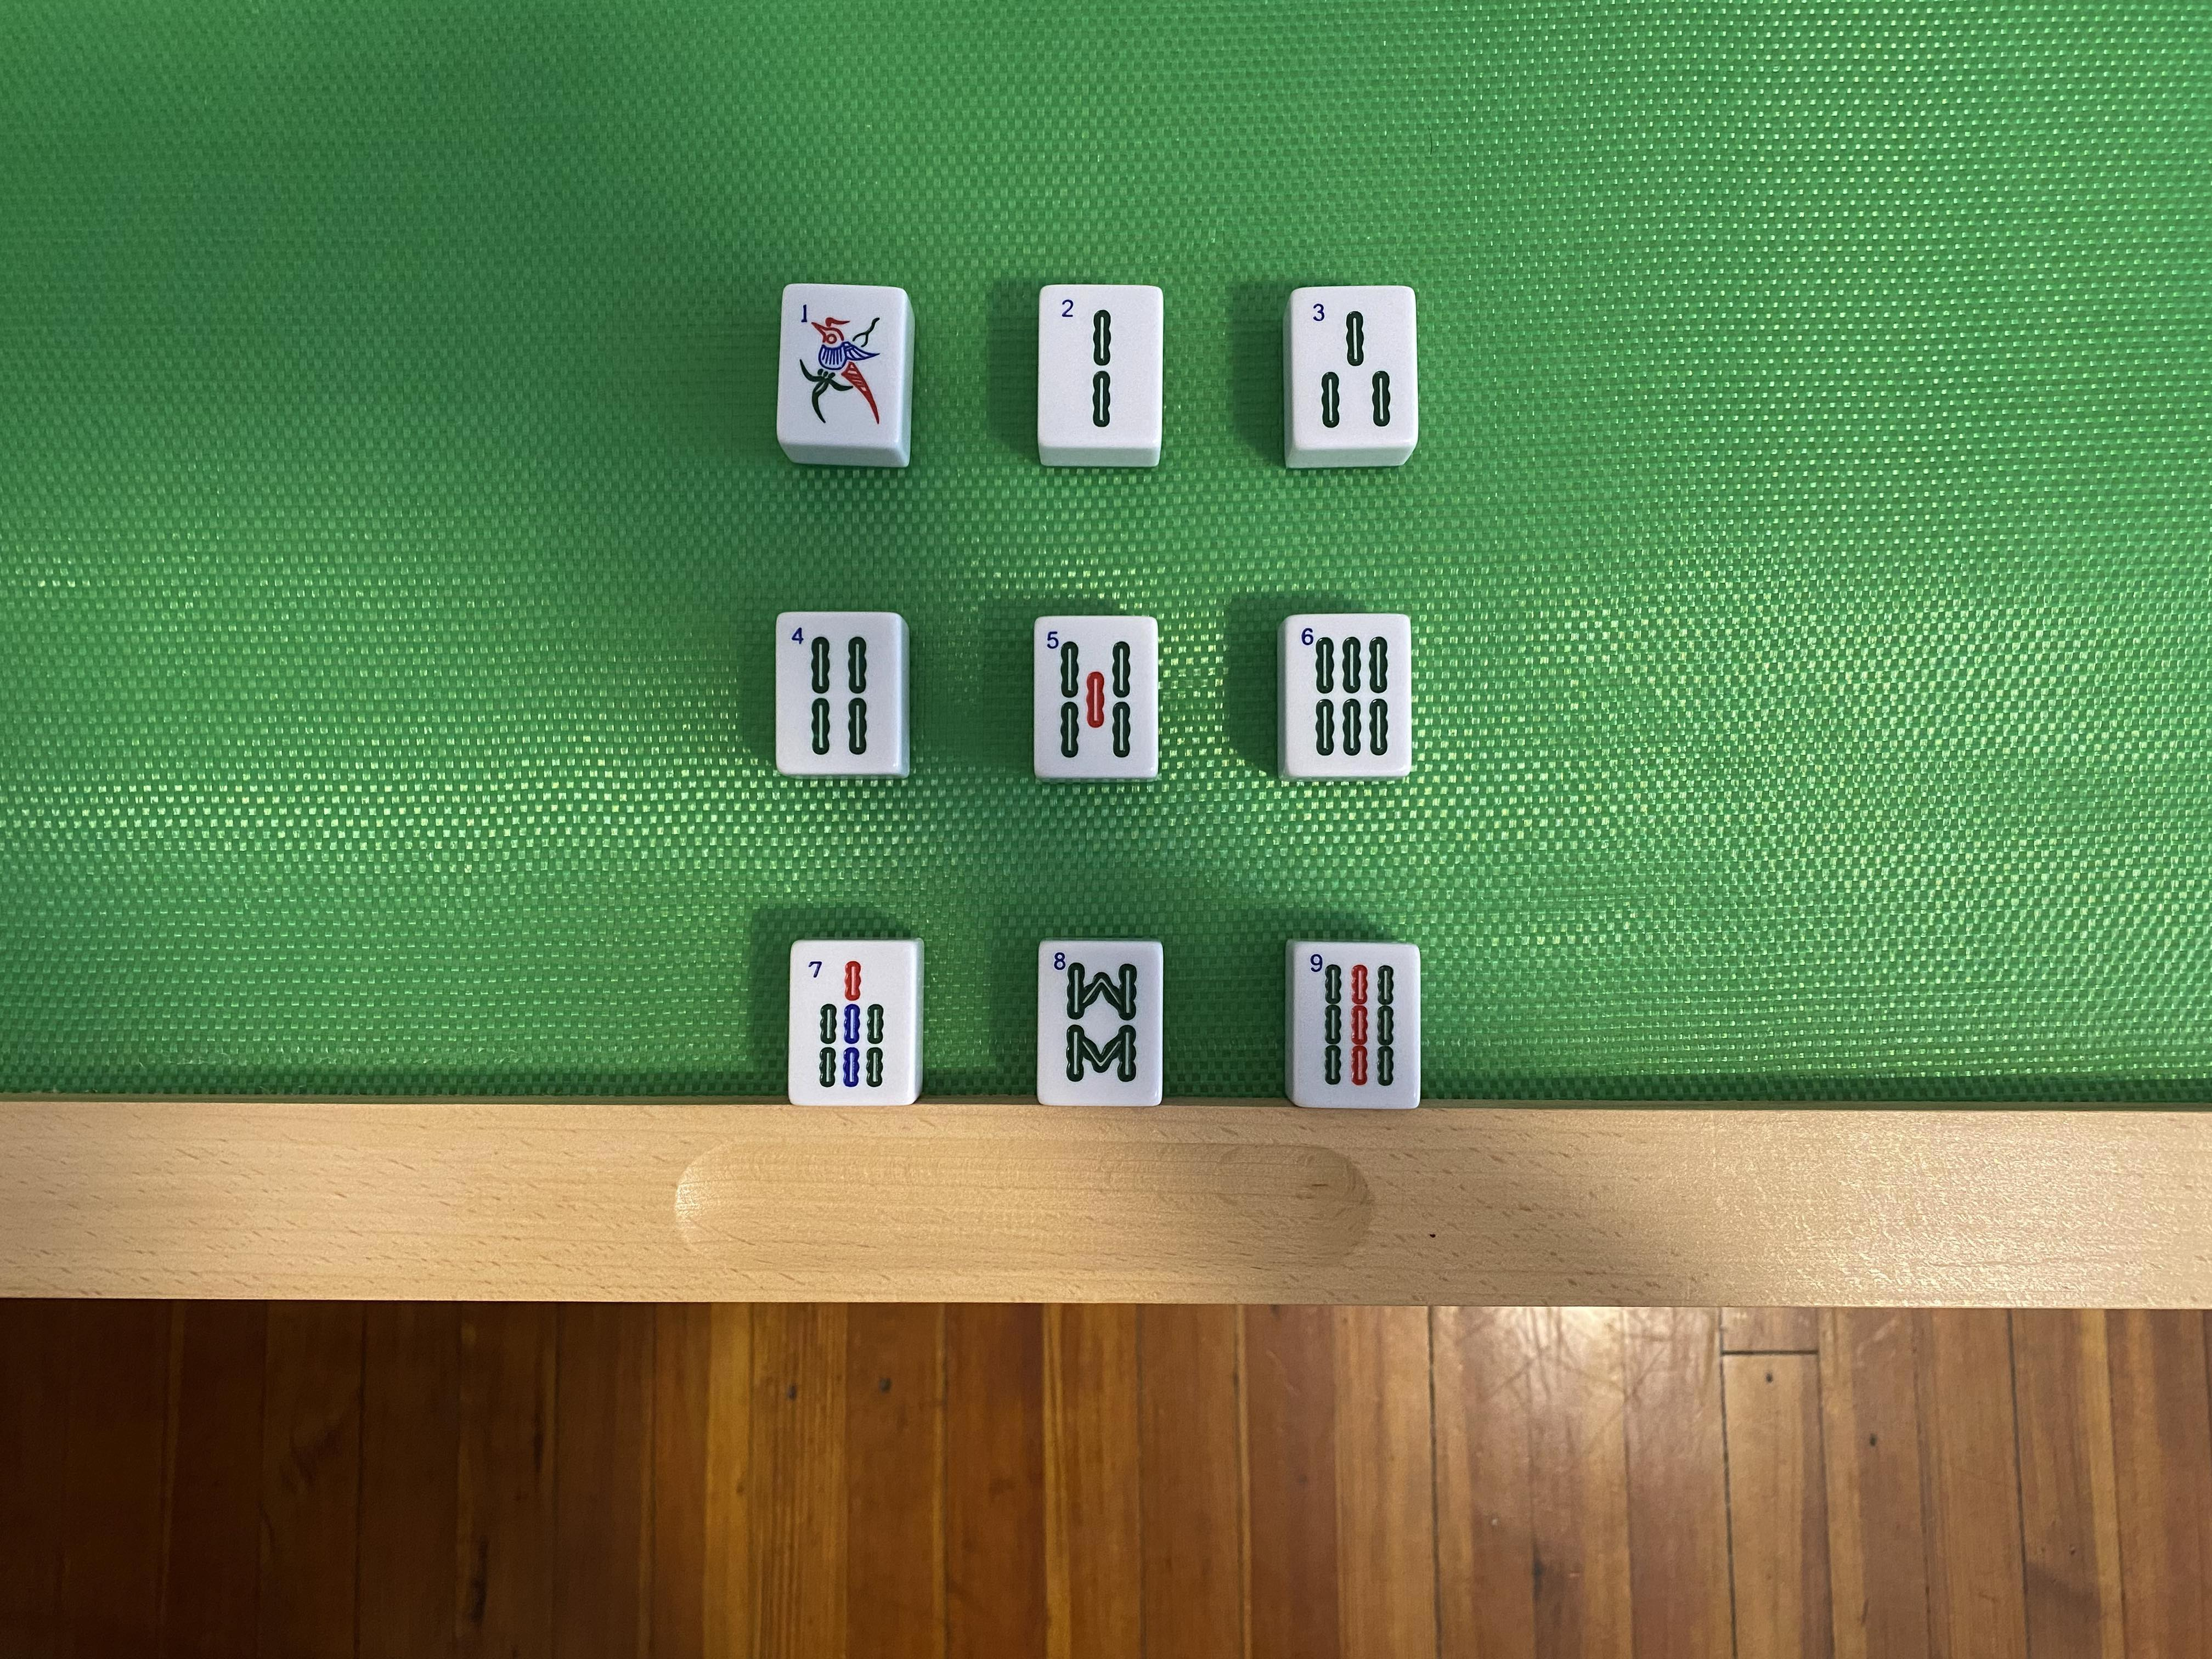bamboo-eight: (1040, 943, 1158, 1105)
bamboo-five: (1036, 619, 1157, 775)
bamboo-four: (779, 615, 899, 769)
bamboo-nine: (1299, 943, 1418, 1107)
bamboo-one: (784, 284, 895, 444)
bamboo-seven: (791, 943, 911, 1103)
bamboo-six: (1292, 617, 1411, 774)
bamboo-three: (1291, 288, 1414, 448)
bamboo-two: (1042, 289, 1162, 450)
